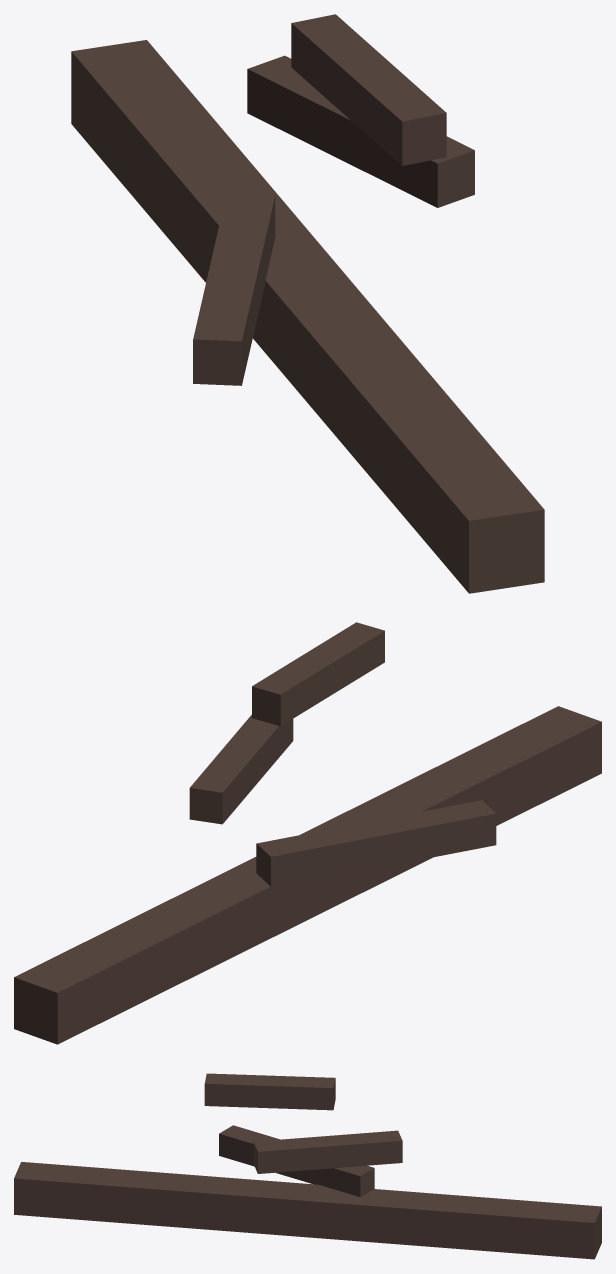
File: EXTW_EastTree_01.glb
3 views of the same model, one above another, from view 1: azimuth 30°, elevation 25°; view 2: azimuth 150°, elevation 25°; view 3: azimuth 270°, elevation 25° (orthographic). The views are drawn at different scales.
Parts seen in each view (by area): view 1: EXTW_EastTree_01; view 2: EXTW_EastTree_01; view 3: EXTW_EastTree_01.
Part boxes in pixels (<box>): EXTW_EastTree_01: <box>71,14,544,593</box>; EXTW_EastTree_01: <box>14,622,601,1044</box>; EXTW_EastTree_01: <box>14,1073,601,1259</box>.
Bounding box in the file's own units: 0.8171 × 0.761 × 2.64.
